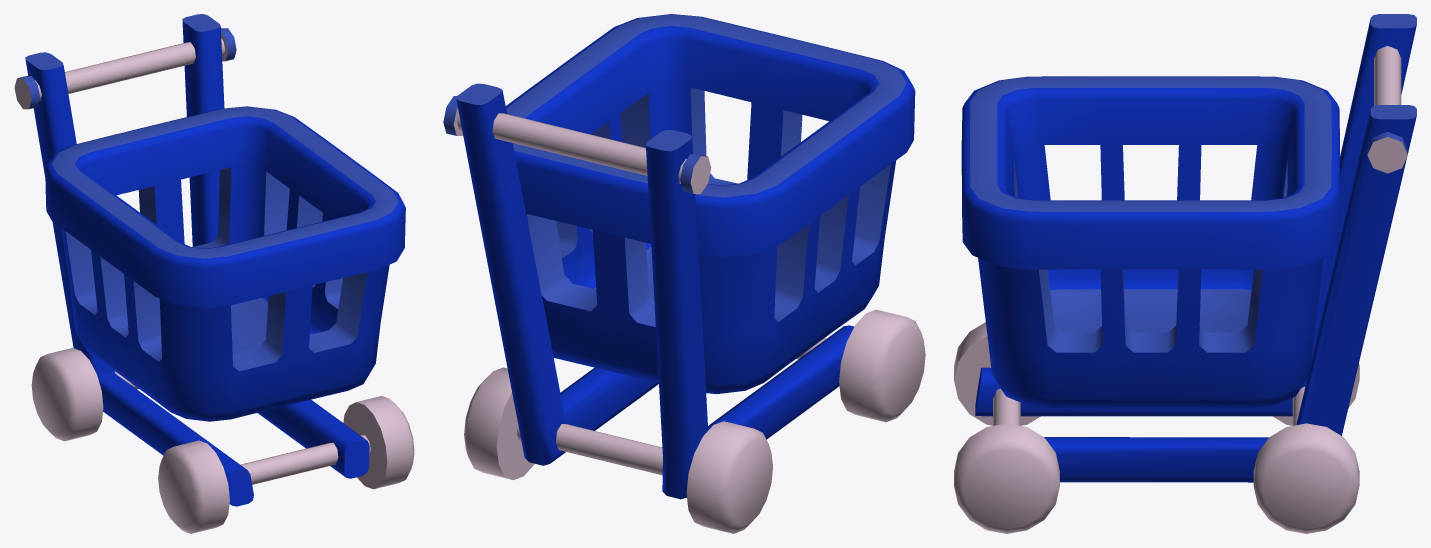
File: Cart.fbx
The picture shows the model from 3 angles, left to right: view 1: azimuth 30°, elevation 25°; view 2: azimuth 150°, elevation 25°; view 3: azimuth 270°, elevation 25°; orthographic projection. The views are drawn at different scales.
Parts seen in each view (by area): view 1: bag.001, cart; view 2: bag.001, cart; view 3: bag.001, cart.
Boxes of the visible parts, bbox=[...] form: bag.001: bbox=[45, 106, 405, 421]; cart: bbox=[14, 14, 414, 533]; bag.001: bbox=[505, 14, 915, 394]; cart: bbox=[443, 83, 925, 533]; bag.001: bbox=[961, 76, 1339, 407]; cart: bbox=[954, 14, 1416, 533].
Size of the model in its own units: 103 by 141 by 137.
